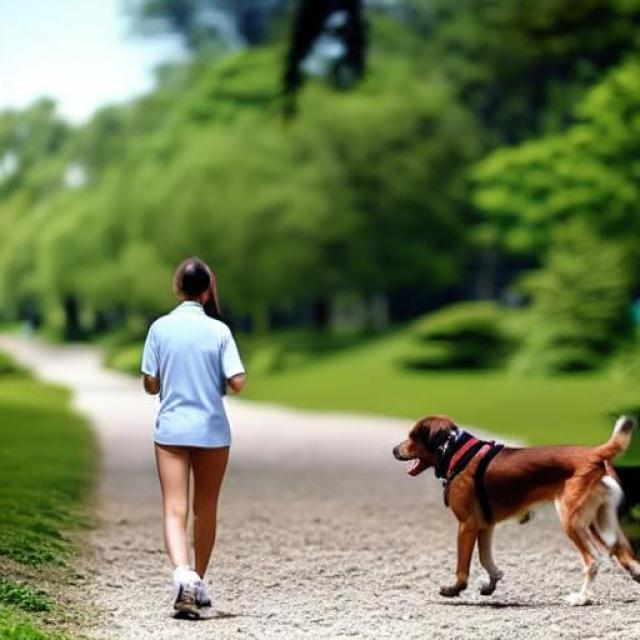Unleashed_Dog: (155, 415, 640, 607)
